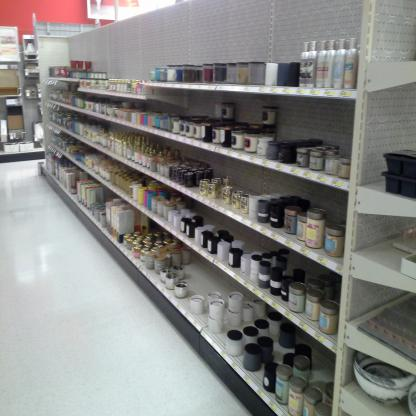Void: (282, 100, 348, 143), (358, 214, 401, 270), (372, 96, 414, 148), (378, 5, 412, 58), (223, 156, 259, 193), (191, 260, 214, 290), (313, 350, 331, 378)
